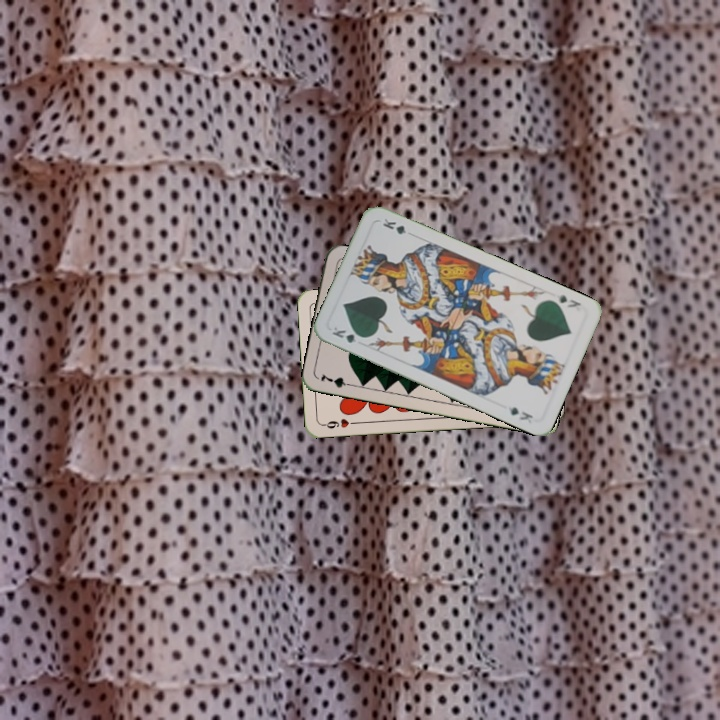G7: (317, 370, 357, 390)
GK: (328, 323, 368, 346), (555, 291, 583, 310)
H9: (319, 415, 360, 431)
